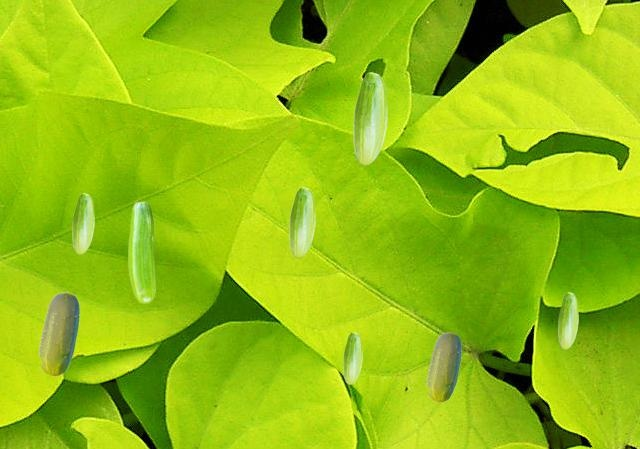cucumber: (38, 292, 78, 375), (353, 72, 386, 164), (128, 201, 154, 302), (426, 332, 460, 401), (289, 187, 314, 256), (72, 193, 93, 253), (558, 292, 577, 348), (343, 332, 361, 383)
